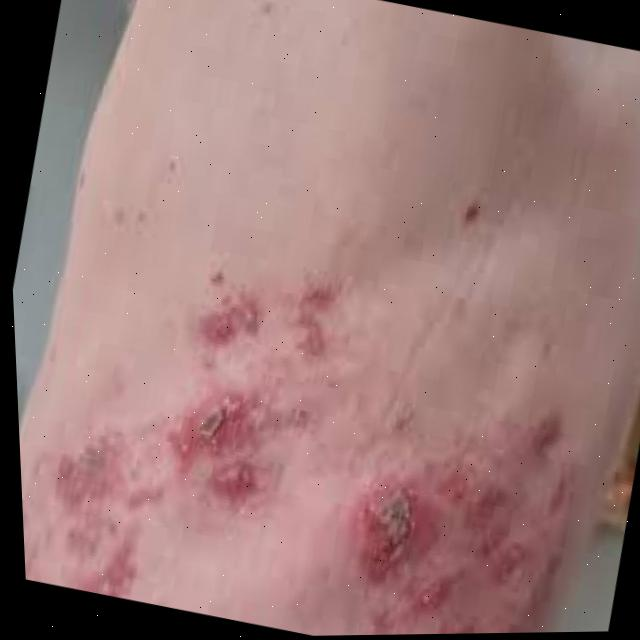Shingles: (15, 343, 284, 623), (324, 372, 594, 635), (177, 253, 346, 366)
